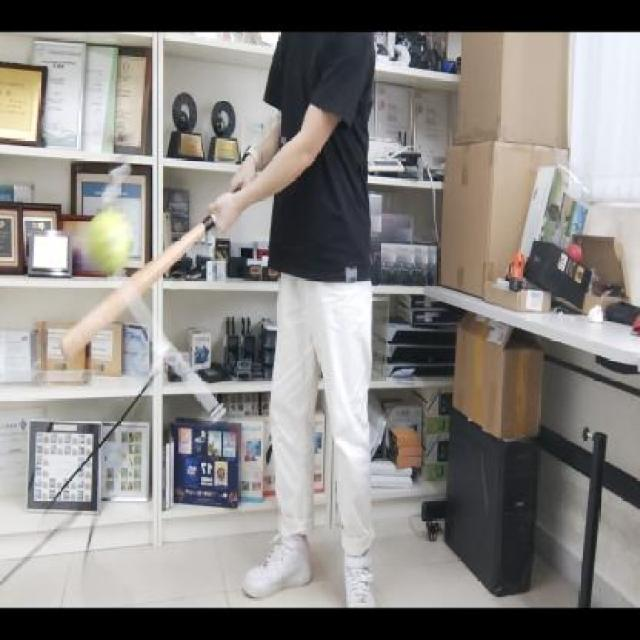baseball: (89, 202, 128, 278)
